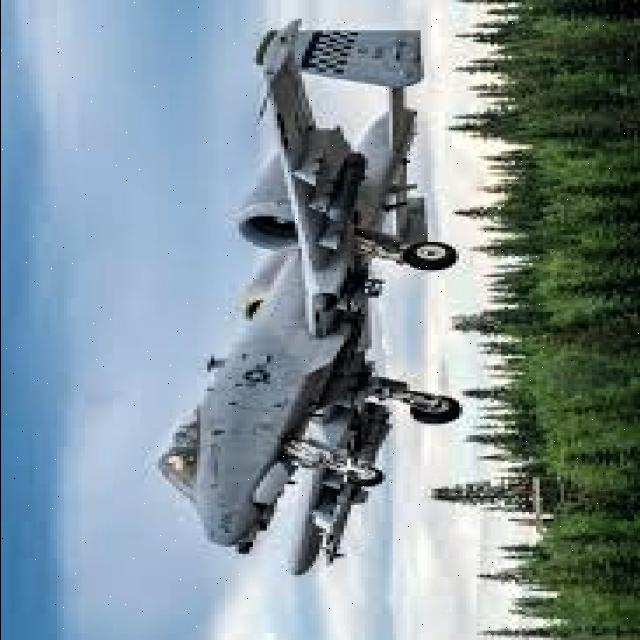A10: (66, 14, 554, 600)
